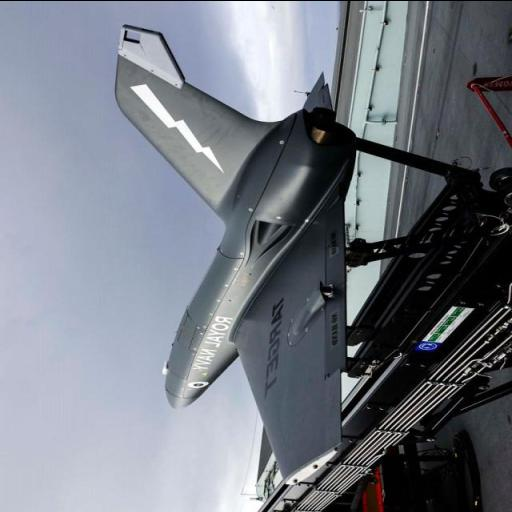uav: (100, 12, 350, 482)
